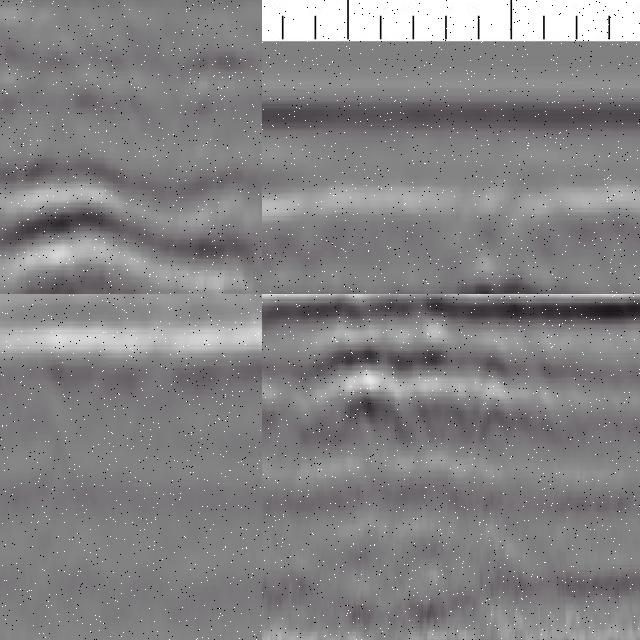loose: (1, 141, 263, 295), (304, 328, 536, 455)
